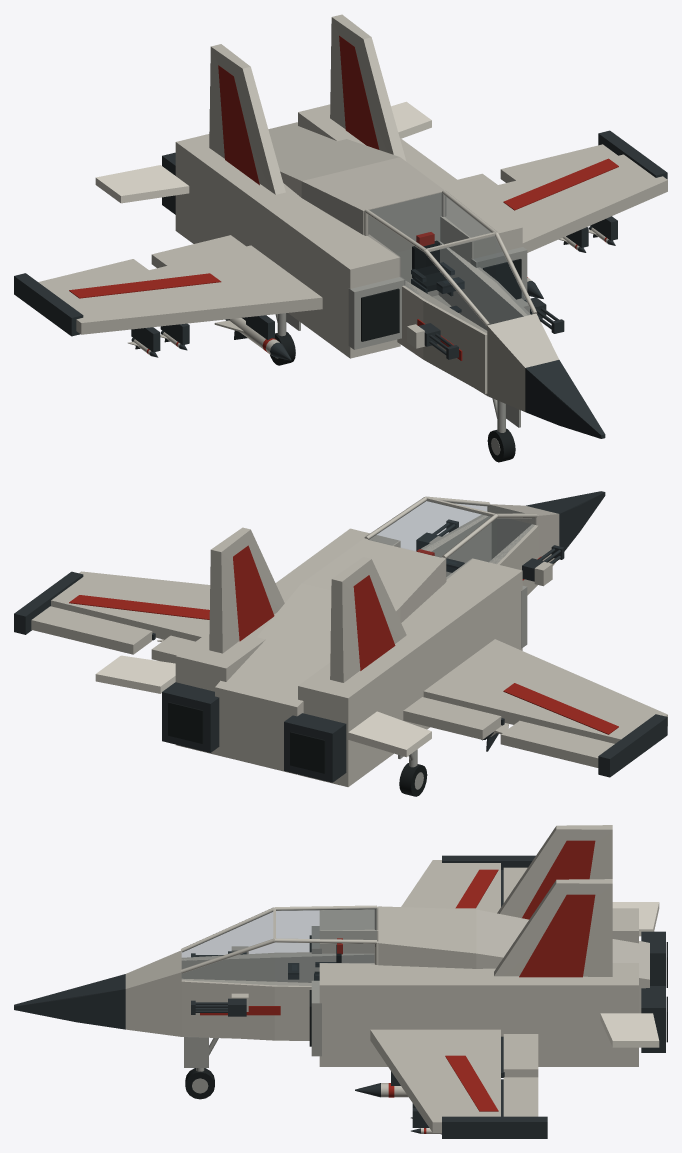
3 views of the same model, one above another, from view 1: azimuth 30°, elevation 25°; view 2: azimuth 150°, elevation 25°; view 3: azimuth 270°, elevation 25° (orthographic). The views are drawn at different scales.
Parts seen in each view (by area): view 1: jet-a-painted, jet-a-glazing, elevator-left-fleet-armor, breakaway-0-painted, crew-chair-pilot-painted, aileron-right-painted, aileron-left-painted, flap-left-painted, store-left-large-painted, breakaway-1-painted, elevator-right-fleet-armor, gear-wheel-nose-0-0-painted; view 2: jet-a-painted, jet-a-glazing, aileron-right-painted, aileron-left-painted, flap-left-painted, elevator-left-fleet-armor, elevator-right-fleet-armor, breakaway-0-painted, breakaway-1-painted, gear-wheel-left-0-0-painted, flap-right-painted, machine-gun-fixed-pitch-left-painted; view 3: jet-a-painted, jet-a-glazing, breakaway-1-painted, elevator-right-fleet-armor, flap-right-painted, aileron-right-painted, landing-gear-nose-painted, breakaway-0-painted, gear-wheel-nose-0-0-painted, elevator-left-fleet-armor, aileron-left-painted, store-right-large-painted (+1 smaller).
Part boxes in pixels (bbox=[...]): jet-a-painted: bbox=[54, 14, 667, 438]; jet-a-glazing: bbox=[368, 193, 532, 332]; elevator-left-fleet-armor: bbox=[95, 165, 189, 203]; breakaway-0-painted: bbox=[14, 273, 83, 336]; crew-chair-pilot-painted: bbox=[411, 232, 464, 312]; aileron-right-painted: bbox=[500, 144, 617, 182]; aileron-left-painted: bbox=[38, 259, 148, 293]; flap-left-painted: bbox=[151, 235, 245, 268]; store-left-large-painted: bbox=[214, 317, 291, 360]; breakaway-1-painted: bbox=[598, 130, 667, 179]; elevator-right-fleet-armor: bbox=[391, 101, 431, 138]; gear-wheel-nose-0-0-painted: bbox=[487, 428, 515, 462]; jet-a-painted: bbox=[51, 491, 667, 786]; jet-a-glazing: bbox=[369, 500, 534, 578]; aileron-right-painted: bbox=[31, 606, 155, 654]; aileron-left-painted: bbox=[500, 720, 614, 767]; flap-left-painted: bbox=[403, 697, 504, 739]; elevator-left-fleet-armor: bbox=[348, 711, 431, 757]; elevator-right-fleet-armor: bbox=[95, 655, 175, 693]; breakaway-0-painted: bbox=[598, 714, 667, 777]; breakaway-1-painted: bbox=[14, 571, 83, 634]; gear-wheel-left-0-0-painted: bbox=[399, 763, 427, 796]; flap-right-painted: bbox=[151, 635, 195, 663]; machine-gun-fixed-pitch-left-painted: bbox=[522, 558, 552, 586]; jet-a-painted: bbox=[14, 825, 667, 1132]; jet-a-glazing: bbox=[182, 909, 376, 985]; breakaway-1-painted: bbox=[442, 1116, 547, 1138]; elevator-right-fleet-armor: bbox=[600, 1013, 659, 1047]; flap-right-painted: bbox=[501, 1034, 538, 1077]; aileron-right-painted: bbox=[501, 1077, 538, 1116]; landing-gear-nose-painted: bbox=[184, 1037, 218, 1071]; breakaway-0-painted: bbox=[442, 855, 535, 869]; gear-wheel-nose-0-0-painted: bbox=[185, 1068, 214, 1099]; elevator-left-fleet-armor: bbox=[612, 902, 659, 936]; aileron-left-painted: bbox=[501, 867, 527, 906]; store-right-large-painted: bbox=[355, 1083, 408, 1097].
Size of the model in its own units: 71.03 by 30.13 by 73.68.
